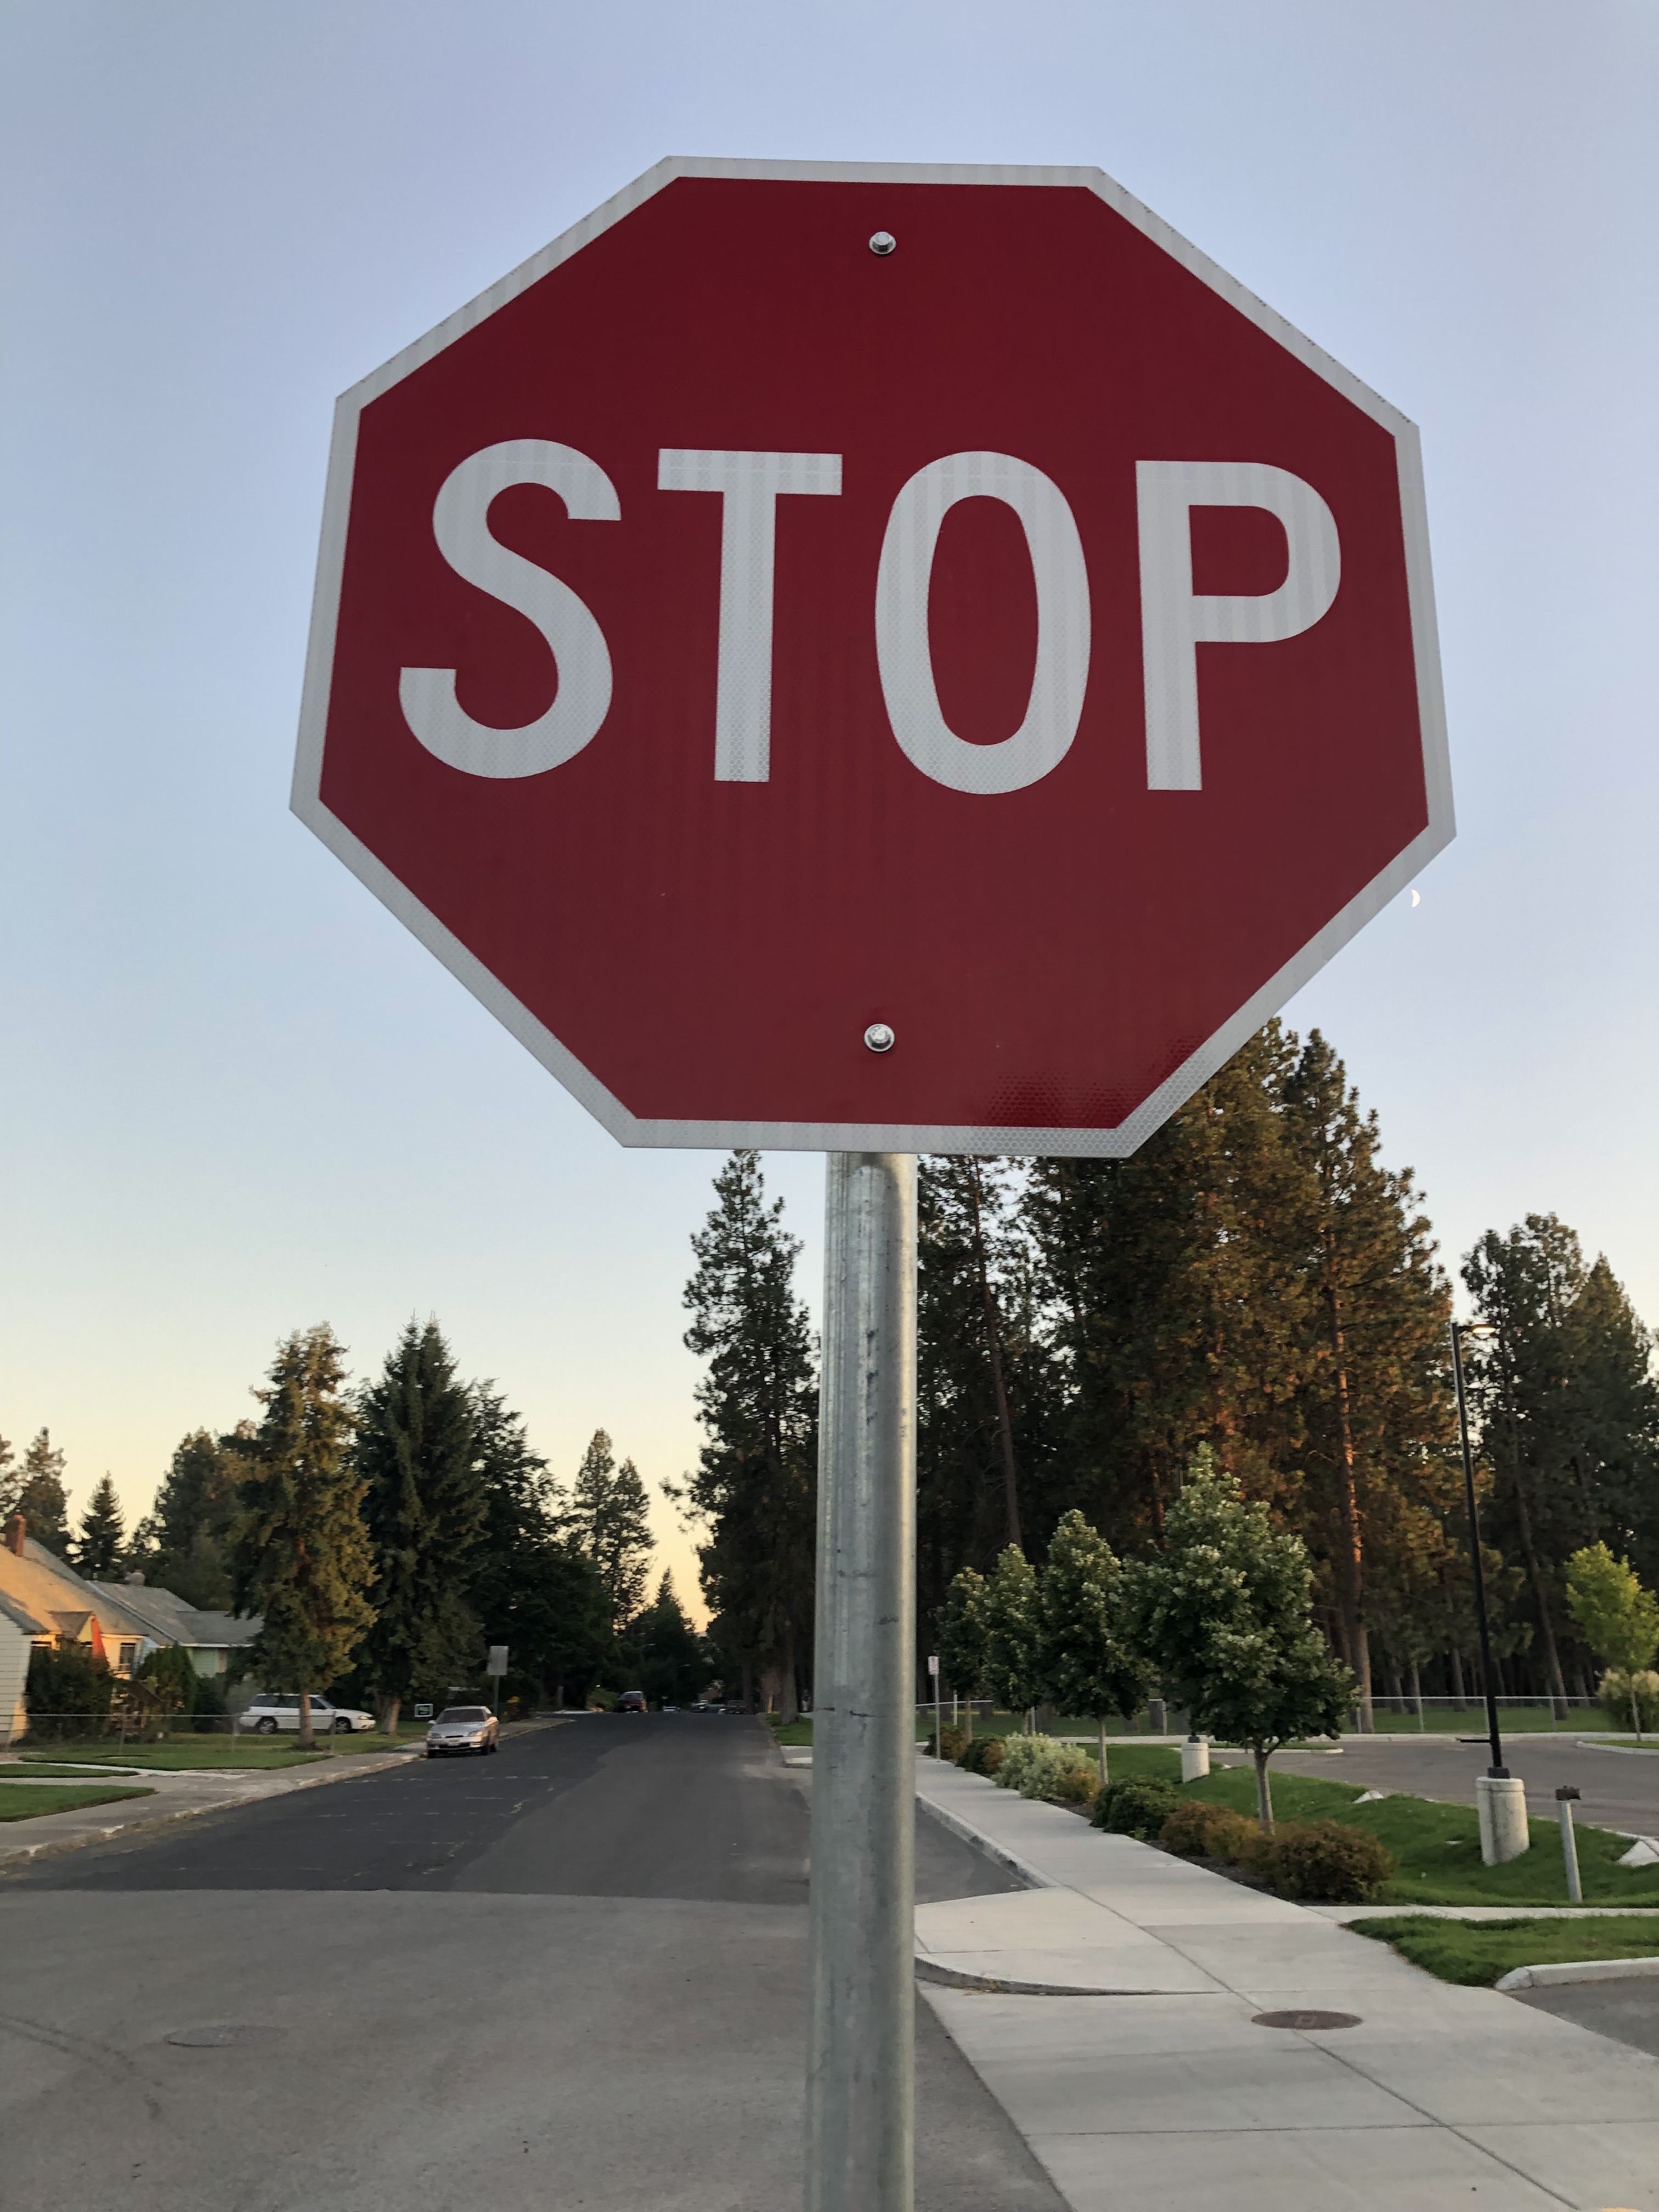stop_sign: (305, 150, 1462, 1163)
